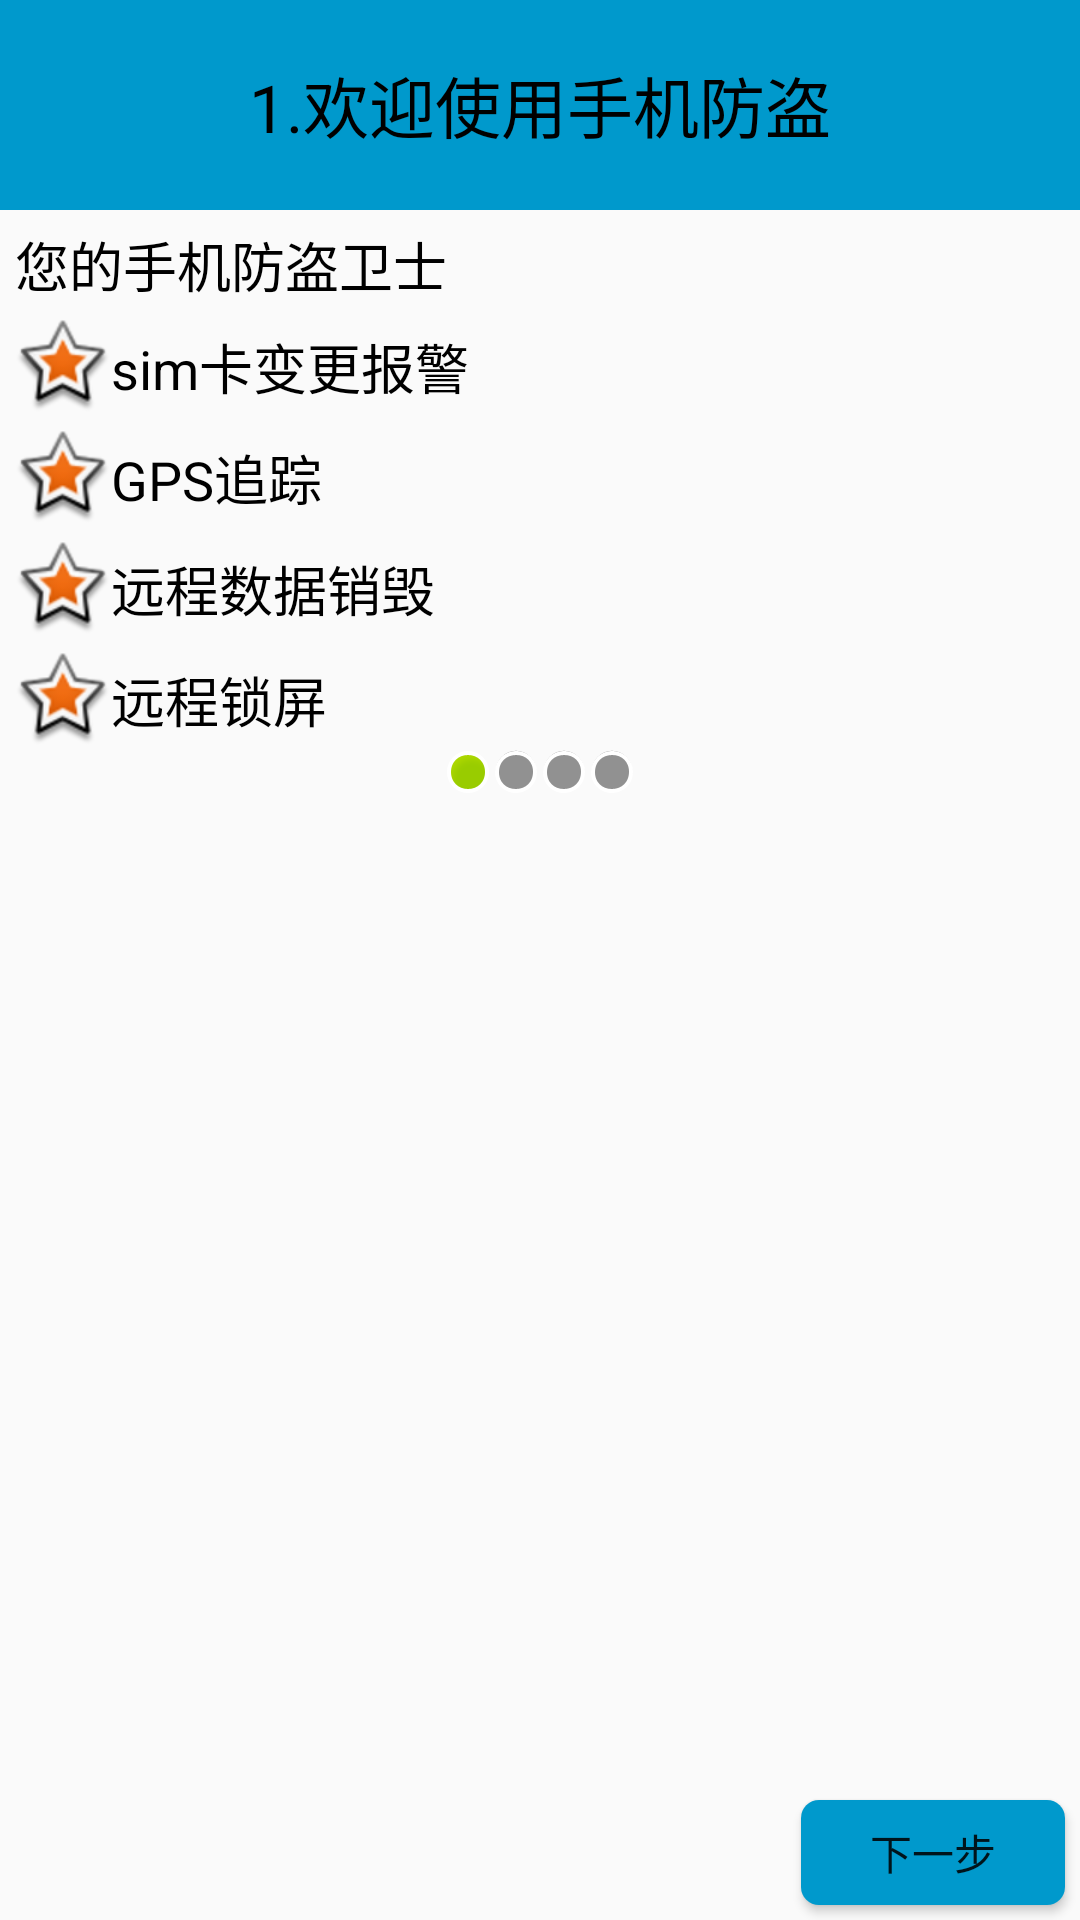

Icon bounding boxes for this 1080px×1920px phone screenshot, format {"left": x1, "top": y1, "right": x2, "bottom": y2}:
presence invisible: {"left": 499, "top": 751, "right": 533, "bottom": 789}, {"left": 547, "top": 751, "right": 581, "bottom": 789}, {"left": 595, "top": 751, "right": 629, "bottom": 789}
presence online: {"left": 451, "top": 755, "right": 485, "bottom": 789}
